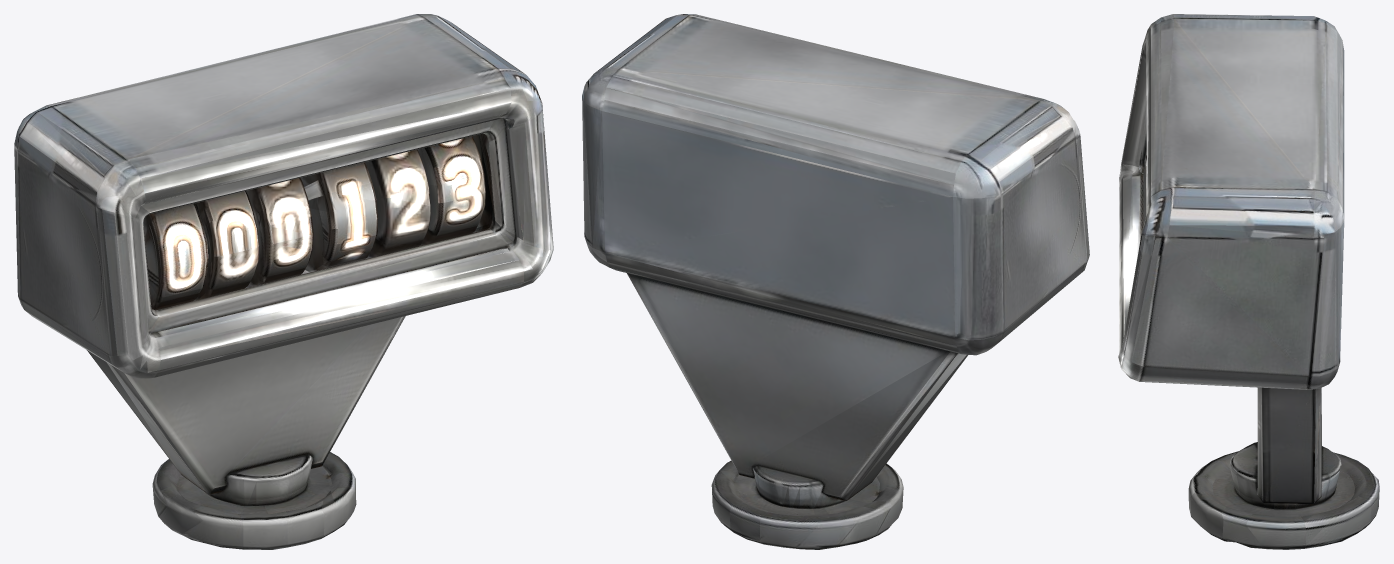
File: odometer.glb
3 renders of one model, left to right at view 1: azimuth 30°, elevation 25°; view 2: azimuth 150°, elevation 25°; view 3: azimuth 270°, elevation 25°, orthographic. The views are drawn at different scales.
Size of the model in its own units: 1 by 0.9531 by 0.5488.
1 material, 1 textured.
